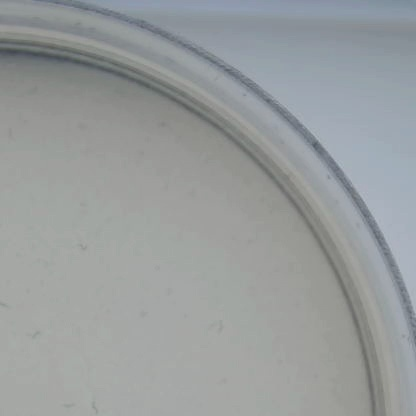worm: (207, 313, 238, 339), (72, 234, 102, 254), (21, 326, 51, 343), (86, 395, 109, 416), (58, 399, 77, 415), (0, 293, 13, 314), (5, 127, 18, 145)
